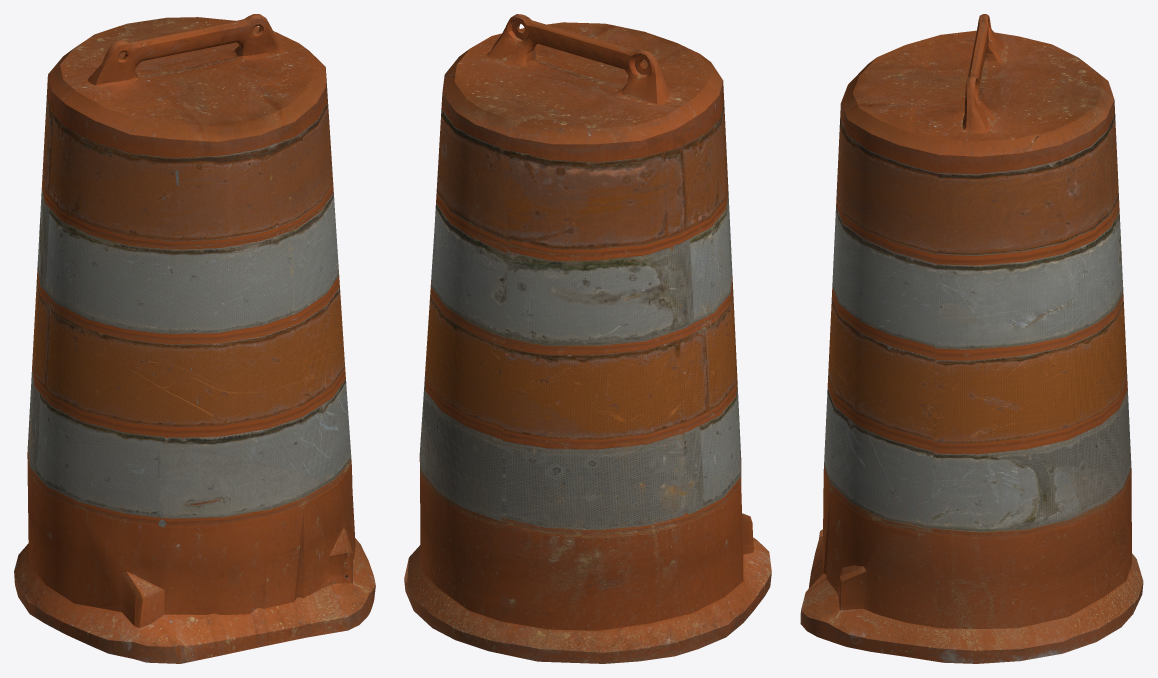
The model's file is SM_JiaoTongZhu.glb.
3 renders of one model, left to right at view 1: azimuth 30°, elevation 25°; view 2: azimuth 150°, elevation 25°; view 3: azimuth 270°, elevation 25°, orthographic. The views are drawn at different scales.
Visible parts, largest first — view 1: SM_JiaoTongZhu; view 2: SM_JiaoTongZhu; view 3: SM_JiaoTongZhu.
Boxes of the visible parts, x1,y1,x2,y2 form: SM_JiaoTongZhu: [14, 14, 375, 663]; SM_JiaoTongZhu: [404, 14, 771, 663]; SM_JiaoTongZhu: [800, 14, 1143, 663].
Bounding box in the file's own units: 0.5849 × 1.01 × 0.5747.
Materials: 1 (1 with a texture image).
